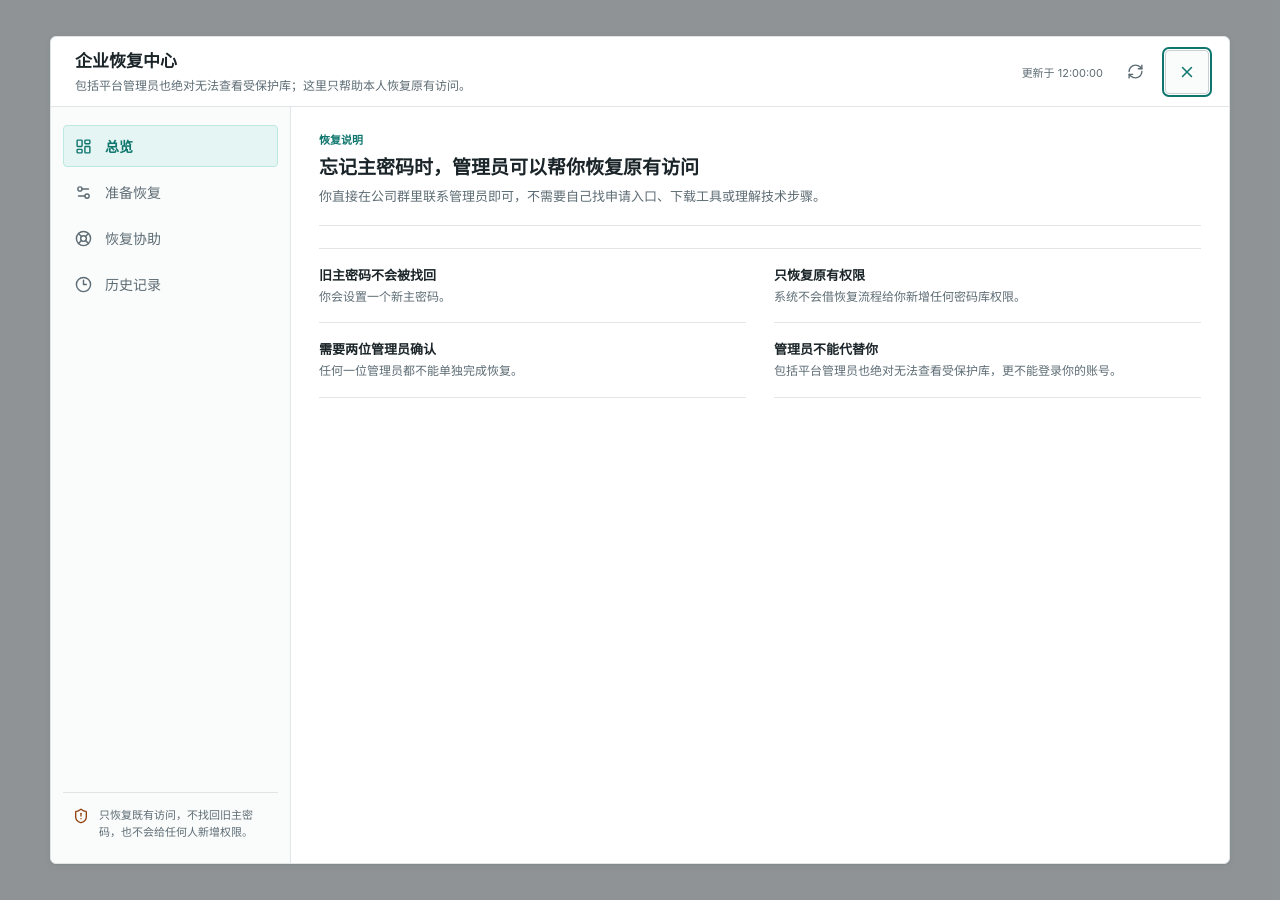
Scenario: enterprise recovery center › keeps the two-administrator recovery automatic after approval
Click the button "恢复协助" at (170, 238), box [63,217,278,259]
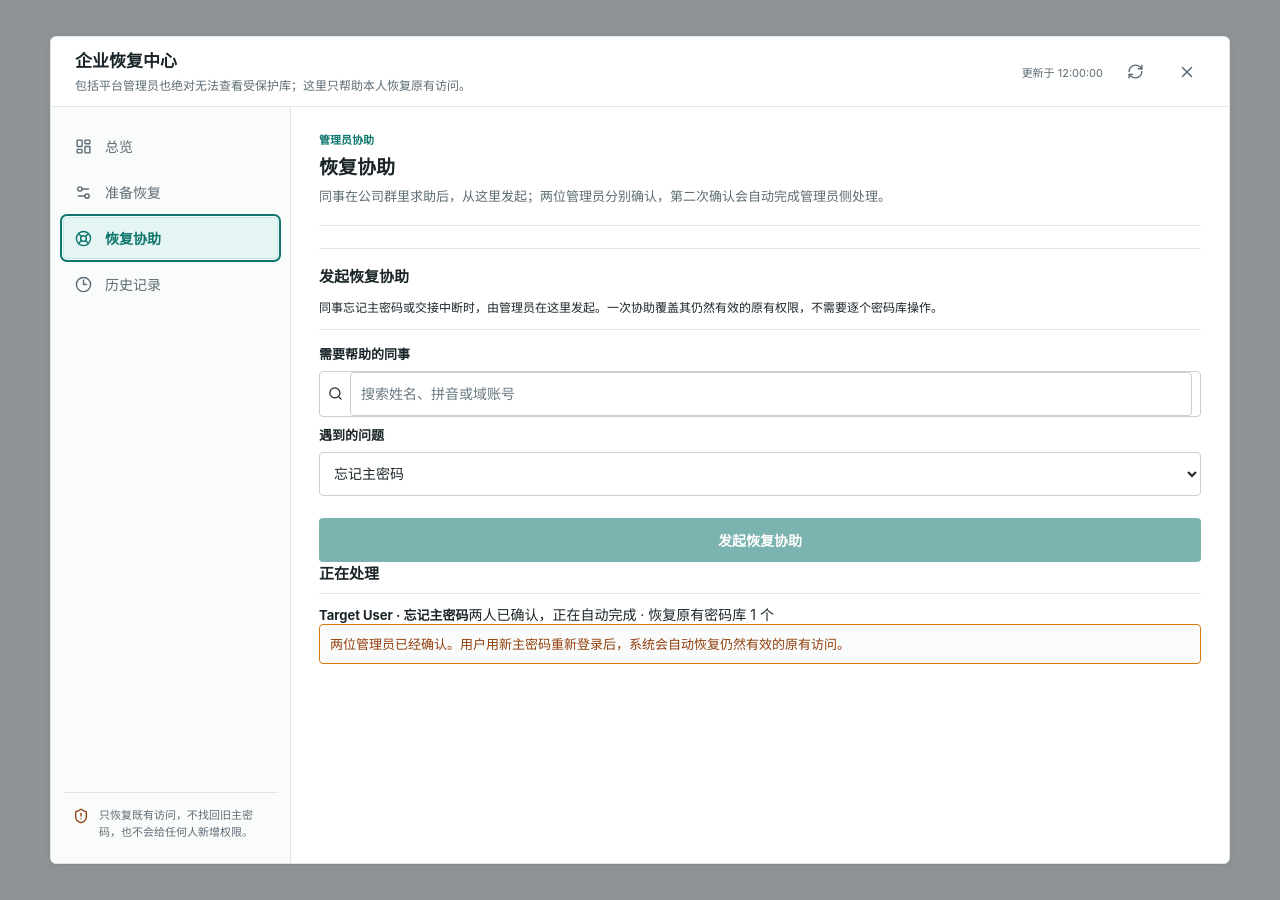
Expected: the text "两人已确认，正在自动完成 · 恢复原有密码库 1 个" is shown, [468,606,774,623]
Expected: the text "两位管理员已经确认。用户用新主密码重新登录后，系统会自动恢复仍然有效的原有访问。" is shown, [319,624,1201,664]
